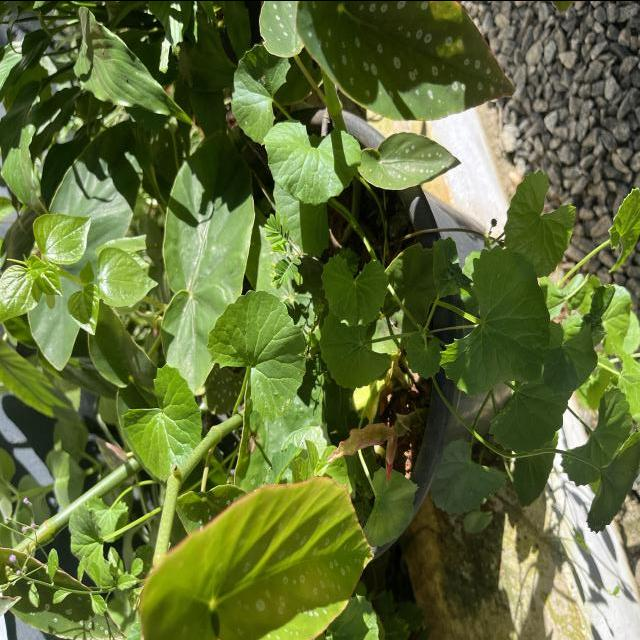Centella asiatica: (437, 242, 553, 398), (204, 287, 308, 424), (119, 360, 204, 484), (260, 115, 364, 208), (502, 167, 578, 279), (317, 306, 393, 390), (319, 252, 391, 328), (361, 464, 420, 548), (403, 328, 444, 381)
